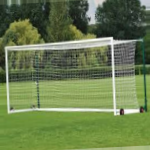goals: (3, 35, 143, 118)
